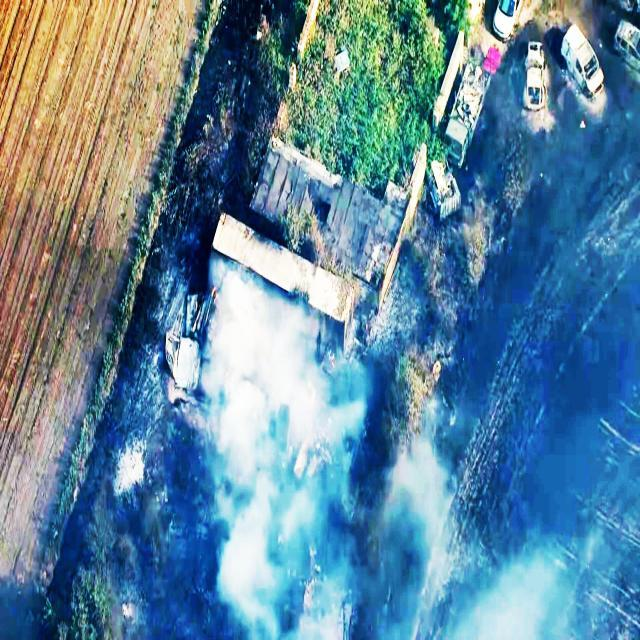Smoke: (196, 294, 297, 399)
